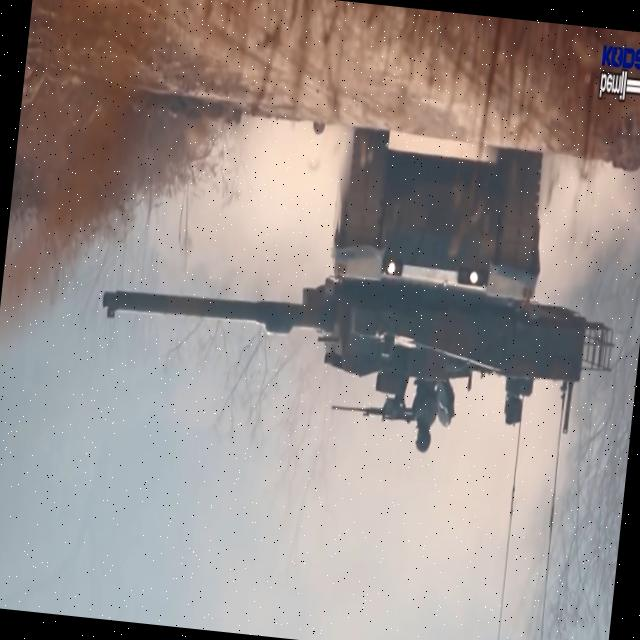korea tank: (90, 98, 634, 472)
